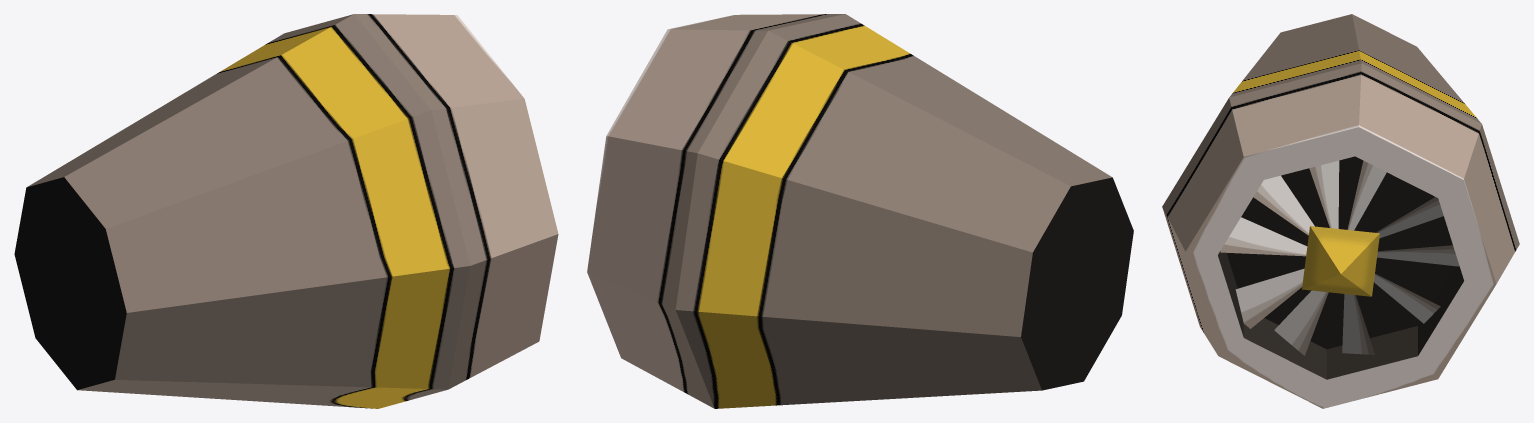
The model's file is Turbina.fbx.
3 views of the same model, side by side, from view 1: azimuth 30°, elevation 25°; view 2: azimuth 150°, elevation 25°; view 3: azimuth 270°, elevation 25° (orthographic). The views are drawn at different scales.
Visible parts, largest first — view 1: Cylinder; view 2: Cylinder; view 3: Cylinder.
Boxes of the visible parts, x1,y1,x2,y2 form: Cylinder: [14, 14, 558, 408]; Cylinder: [587, 14, 1133, 408]; Cylinder: [1162, 14, 1519, 408].
Bounding box in the file's own units: 261 × 229 × 229.
Materials: 1 (1 with a texture image).
